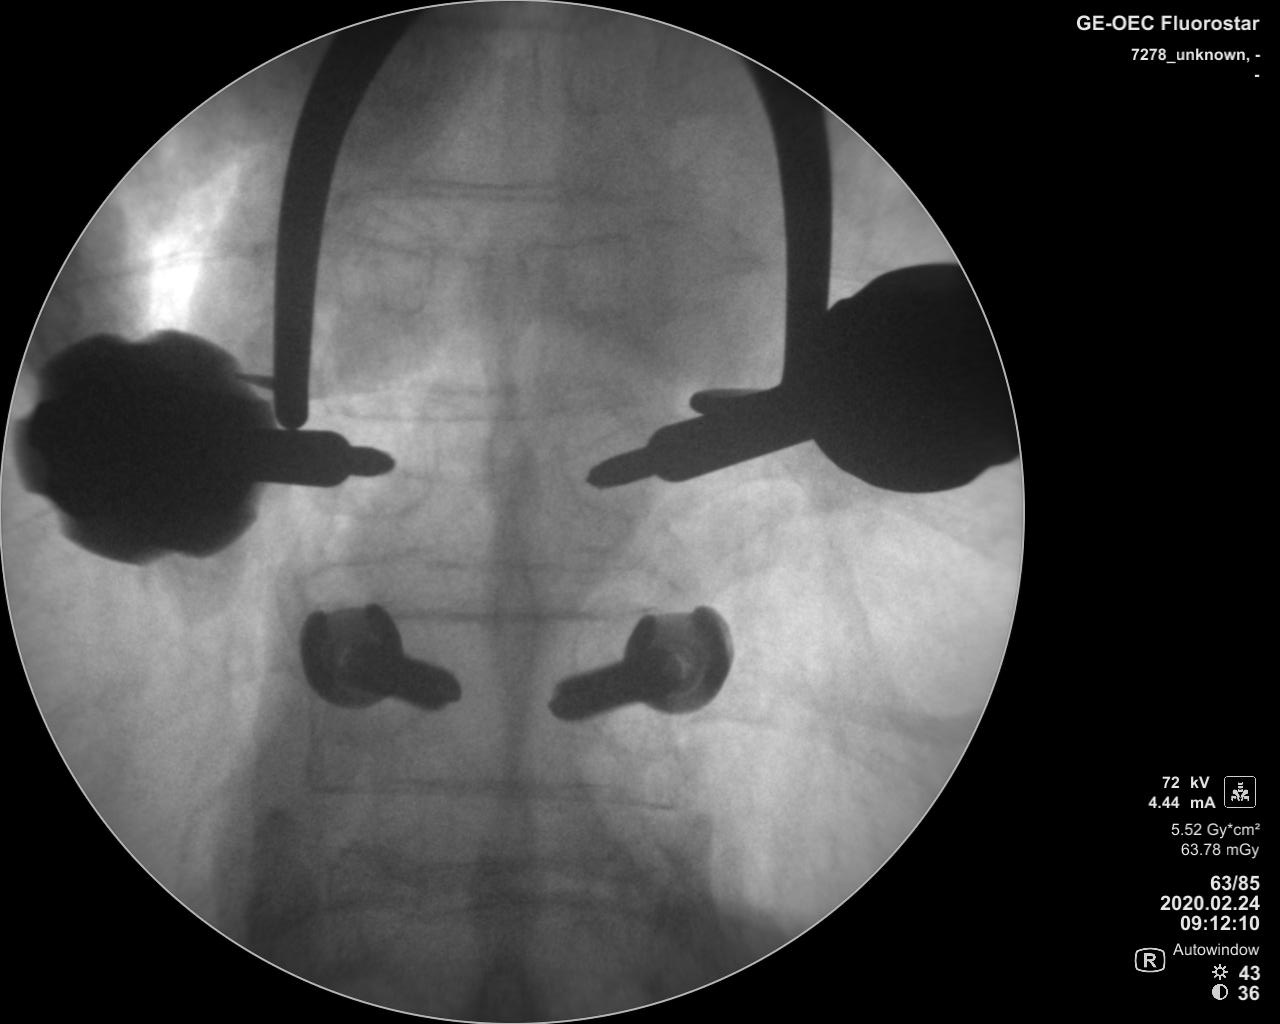eyes: (571, 605, 672, 757), (333, 383, 438, 523), (352, 192, 442, 321), (562, 403, 653, 530), (554, 196, 626, 324)
line: (326, 771, 641, 812), (382, 173, 625, 212), (397, 550, 636, 583), (372, 370, 635, 399), (343, 404, 612, 426), (409, 859, 626, 884), (396, 605, 625, 628)
nose: (475, 740, 538, 970), (479, 545, 541, 725), (466, 214, 532, 363), (478, 389, 539, 531)
